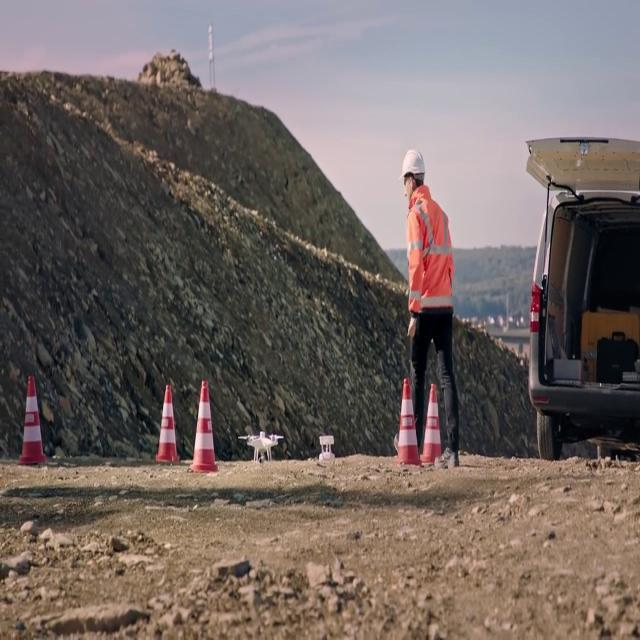drone: (238, 429, 284, 464)
